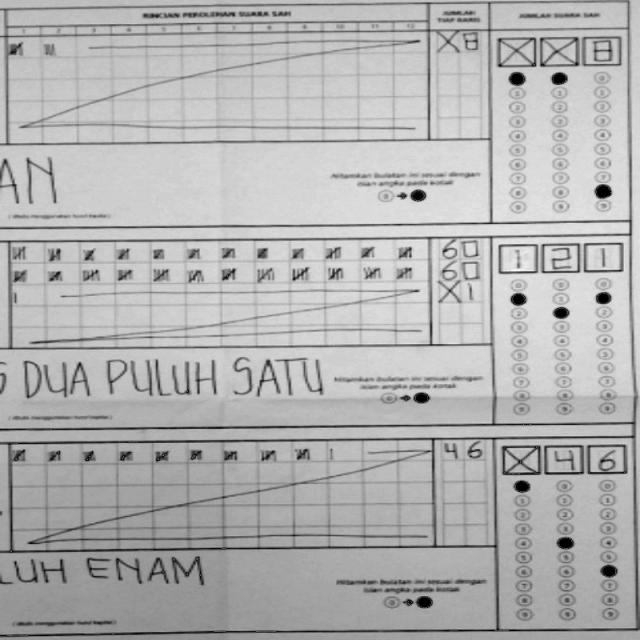Suara: (497, 438, 627, 478), (494, 238, 626, 274), (492, 30, 622, 66)
